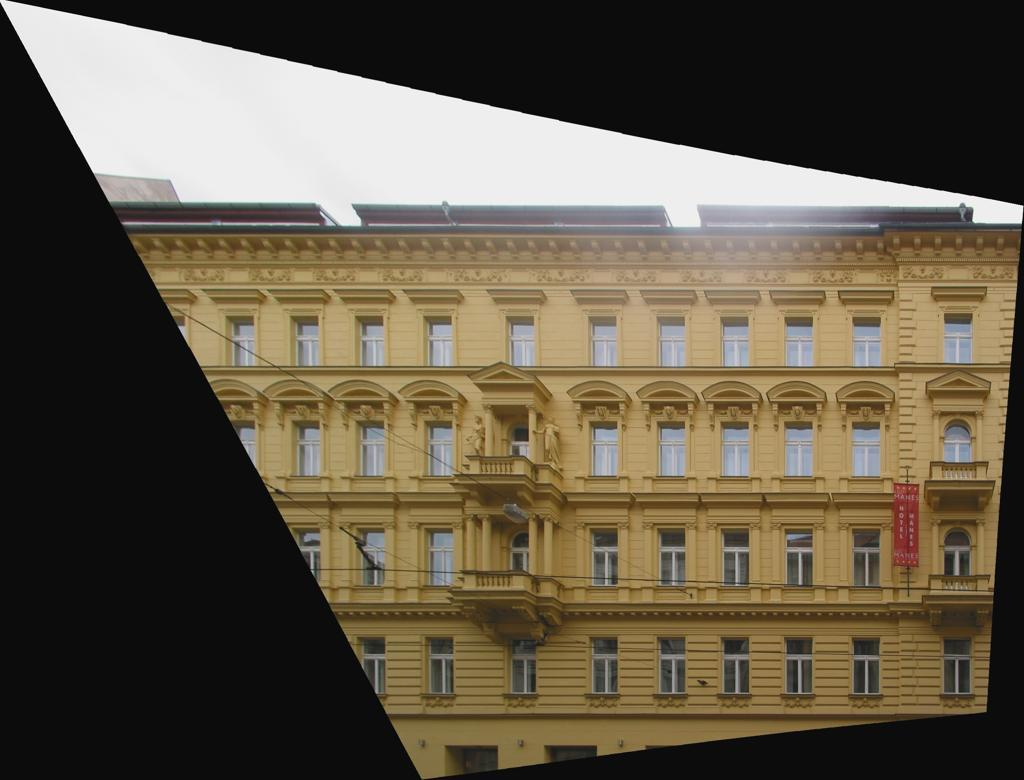window: (507, 529, 539, 586), (291, 420, 321, 478), (355, 528, 385, 586), (291, 528, 321, 586), (721, 528, 750, 587), (355, 420, 385, 477), (356, 638, 386, 695), (852, 529, 881, 587), (589, 636, 618, 693), (424, 528, 453, 585), (721, 637, 750, 694), (657, 637, 686, 694), (657, 528, 686, 585), (507, 637, 536, 693), (590, 528, 618, 586), (785, 637, 813, 694), (785, 529, 813, 586), (589, 421, 618, 476), (425, 637, 453, 693), (784, 422, 813, 476), (656, 422, 685, 476), (853, 422, 881, 477), (853, 638, 880, 694), (721, 422, 749, 476), (424, 422, 452, 476), (944, 638, 971, 694), (507, 422, 534, 476), (720, 317, 749, 367), (853, 317, 881, 367), (785, 317, 813, 367), (588, 317, 616, 367), (424, 316, 452, 366), (356, 316, 384, 366), (290, 317, 318, 367), (225, 316, 253, 366), (945, 314, 973, 364), (657, 317, 685, 366), (507, 317, 533, 367), (944, 527, 971, 575), (944, 420, 972, 463)
